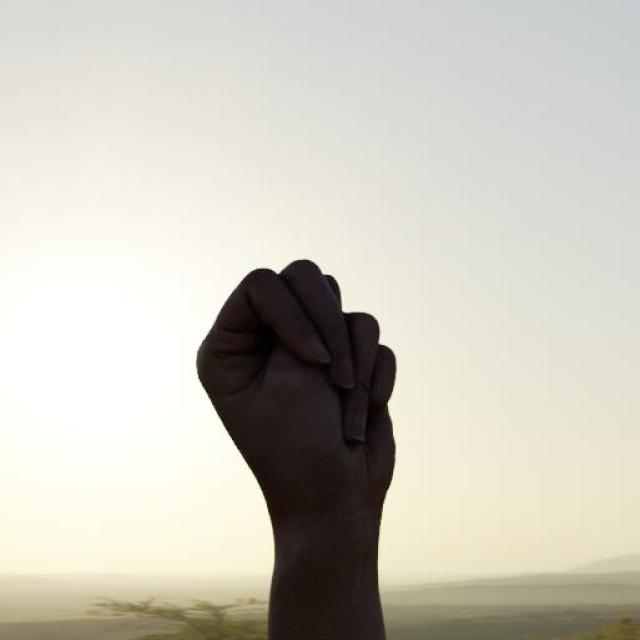N: (186, 246, 405, 542)
